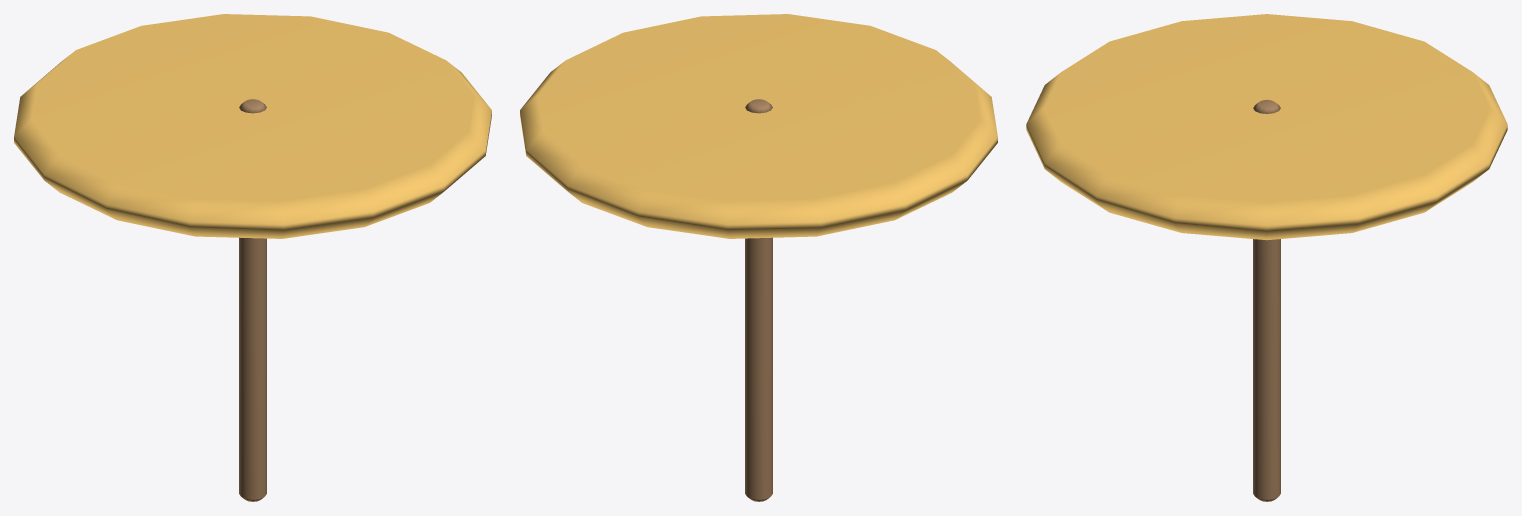
The picture shows the model from 3 angles, left to right: view 1: azimuth 30°, elevation 25°; view 2: azimuth 150°, elevation 25°; view 3: azimuth 270°, elevation 25°; orthographic projection.
Visible parts, largest first — view 1: LOD2_BEACH_UMBRELLA_Canopy, LOD2_BEACH_UMBRELLA_Pole; view 2: LOD2_BEACH_UMBRELLA_Canopy, LOD2_BEACH_UMBRELLA_Pole; view 3: LOD2_BEACH_UMBRELLA_Canopy, LOD2_BEACH_UMBRELLA_Pole.
Boxes of the visible parts, x1,y1,x2,y2 form: LOD2_BEACH_UMBRELLA_Canopy: (14,14,491,238); LOD2_BEACH_UMBRELLA_Pole: (239,99,266,501); LOD2_BEACH_UMBRELLA_Canopy: (520,14,997,238); LOD2_BEACH_UMBRELLA_Pole: (745,99,772,501); LOD2_BEACH_UMBRELLA_Canopy: (1026,14,1507,240); LOD2_BEACH_UMBRELLA_Pole: (1253,100,1280,501).
Size of what is drawn, in the model's own units: 2.76 by 2.5 by 2.76.
